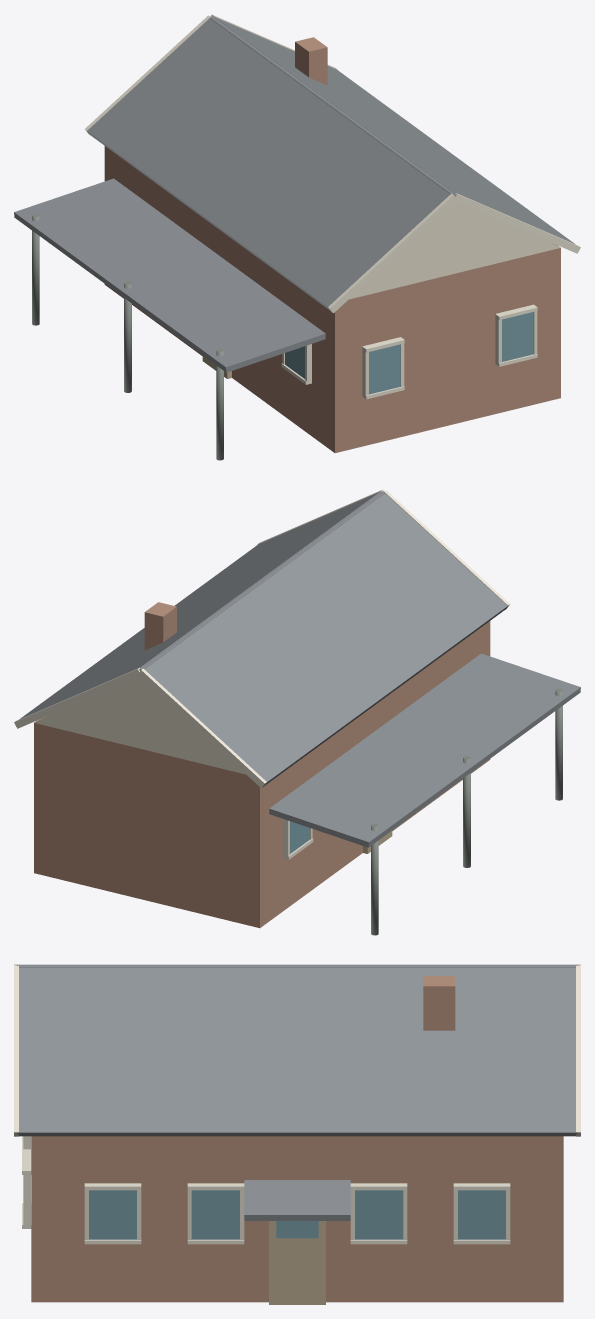
File: tyne-station-interwar_lod1.glb
3 renders of one model, top to bottom at view 1: azimuth 30°, elevation 25°; view 2: azimuth 150°, elevation 25°; view 3: azimuth 270°, elevation 25°, orthographic. The views are drawn at different scales.
Parts seen in each view (by area): view 1: RF_Roof.001, RF_Station_Body, RF_PlatformCanopy, RF_Roof, RF_Gable, RF_Vergeband.001, RF_Ridge, RF_Window.009, RF_Window, RF_StationChimney, RF_Vergeband.003, RF_CanopyColumn.001 (+3 smaller); view 2: RF_Roof.001, RF_Station_Body, RF_PlatformCanopy, RF_Roof, RF_Gable.001, RF_Vergeband.002, RF_Ridge, RF_StationChimney, RF_Vergeband, RF_CanopyColumn, RF_CanopyColumn.001, RF_CanopyColumn.002 (+1 smaller); view 3: RF_Roof, RF_Station_Body, RF_PublicAwning, RF_Station_Door, RF_Window.006, RF_Window.007, RF_Window.005, RF_Window.008, RF_StationChimney, RF_Ridge, RF_Roof.001, RF_Vergeband.003 (+6 smaller).
Part boxes in pixels (left/top/right/bottom): RF_Roof.001: left=87, top=17, right=451, bottom=311; RF_Station_Body: left=104, top=146, right=560, bottom=453; RF_PlatformCanopy: left=14, top=178, right=325, bottom=372; RF_Roof: left=213, top=16, right=575, bottom=244; RF_Gable: left=349, top=201, right=560, bottom=299; RF_Vergeband.001: left=328, top=193, right=456, bottom=313; RF_Ridge: left=210, top=16, right=455, bottom=195; RF_Window.009: left=369, top=344, right=400, bottom=394; RF_Window: left=502, top=312, right=533, bottom=361; RF_StationChimney: left=295, top=37, right=327, bottom=85; RF_Vergeband.003: left=454, top=192, right=580, bottom=253; RF_CanopyColumn.001: left=216, top=348, right=223, bottom=460; RF_Roof.001: left=143, top=492, right=507, bottom=786; RF_Station_Body: left=34, top=621, right=490, bottom=928; RF_PlatformCanopy: left=269, top=653, right=580, bottom=847; RF_Roof: left=19, top=491, right=381, bottom=719; RF_Gable.001: left=34, top=676, right=245, bottom=774; RF_Vergeband.002: left=138, top=668, right=266, bottom=788; RF_Ridge: left=139, top=491, right=384, bottom=670; RF_StationChimney: left=144, top=602, right=176, bottom=649; RF_Vergeband: left=14, top=667, right=140, bottom=728; RF_CanopyColumn: left=371, top=823, right=378, bottom=935; RF_CanopyColumn.001: left=555, top=688, right=562, bottom=800; RF_CanopyColumn.002: left=463, top=756, right=470, bottom=867; RF_Roof: left=17, top=966, right=577, bottom=1136; RF_Station_Body: left=31, top=1136, right=563, bottom=1302; RF_PublicAwning: left=244, top=1180, right=350, bottom=1220; RF_Station_Door: left=269, top=1221, right=325, bottom=1304; RF_Window.006: left=191, top=1190, right=239, bottom=1239; RF_Window.007: left=355, top=1190, right=403, bottom=1239; RF_Window.005: left=89, top=1190, right=136, bottom=1239; RF_Window.008: left=458, top=1190, right=505, bottom=1239; RF_StationChimney: left=423, top=976, right=455, bottom=1030; RF_Ridge: left=16, top=965, right=578, bottom=967; RF_Roof.001: left=19, top=964, right=575, bottom=965; RF_Vergeband.003: left=14, top=966, right=18, bottom=1136.
Size of the model in its own units: 14.11 by 8.7 by 15.98.
